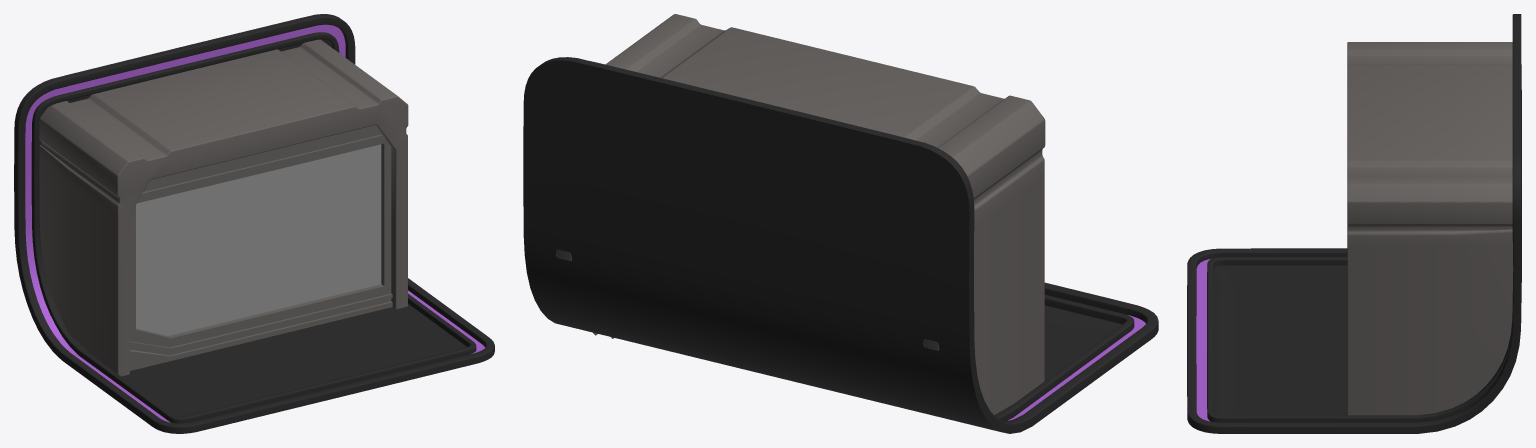
Rendered from SM_DemoDisplay03_Combined.FBX.
3 views of the same model, side by side, from view 1: azimuth 30°, elevation 25°; view 2: azimuth 150°, elevation 25°; view 3: azimuth 270°, elevation 25° (orthographic). The views are drawn at different scales.
Parts seen in each view (by area): view 1: SM_DemoDisplay03_Combined; view 2: SM_DemoDisplay03_Combined; view 3: SM_DemoDisplay03_Combined.
Part boxes in pixels (box(x1,y1,x2,y2)): SM_DemoDisplay03_Combined: box(14, 14, 494, 433); SM_DemoDisplay03_Combined: box(523, 14, 1158, 433); SM_DemoDisplay03_Combined: box(1187, 14, 1521, 433).
Size of the model in its own units: 634 by 504 by 427.
